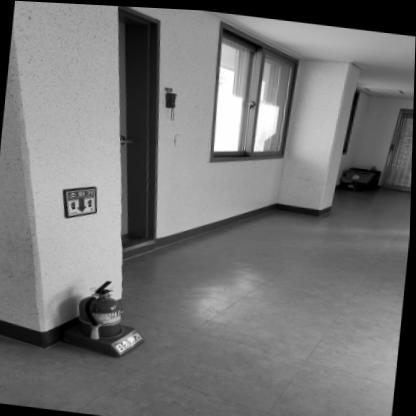FE: (62, 273, 150, 357)
